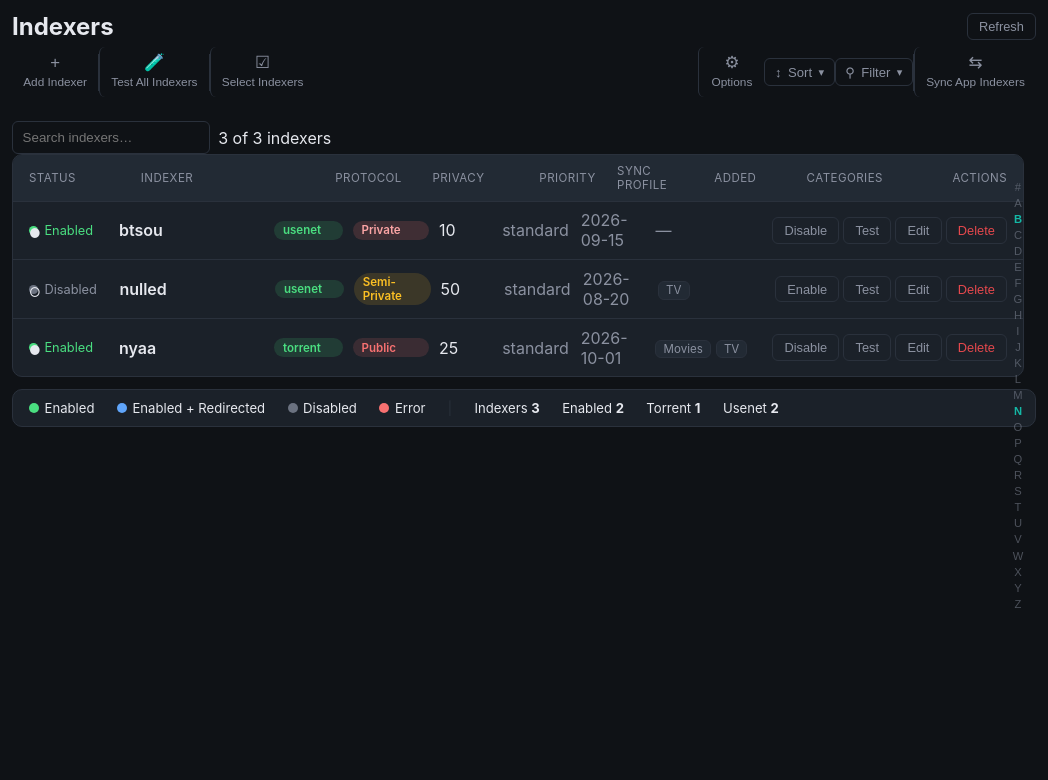
Test: IndexerHubPage — toolbar behaviors › Filter by protocol hides other-protocol rows
Check: the element with test id "idx-row-1" is shown, box [13, 319, 1023, 376]
What coordinates should you click on to do the following:
click the button with test id "idx-filter-btn"
I would click on:
 (874, 72)
Its box is [835, 58, 913, 86].
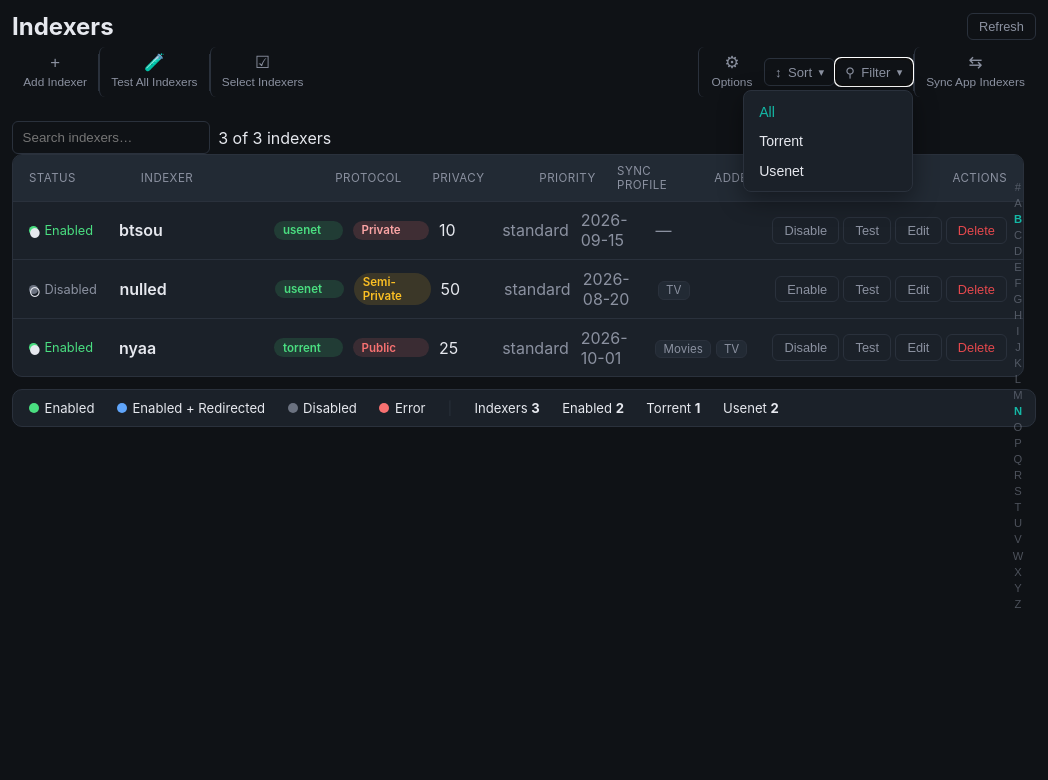
What coordinates should you click on to do the following:
click the menu item with test id "idx-filter-opt-usenet"
I would click on:
 (828, 170)
Its box is [750, 156, 906, 185].
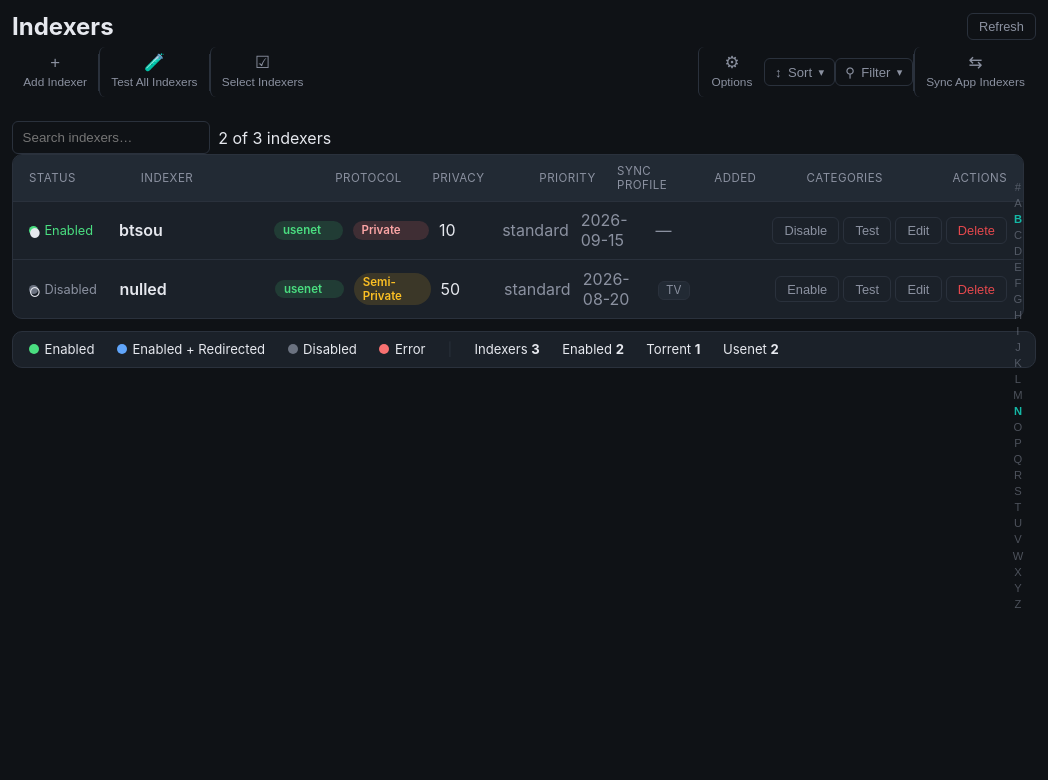
Check: the element with test id "idx-row-2" is shown, box [13, 202, 1023, 260]
Check: the element with test id "idx-row-1" is gone
